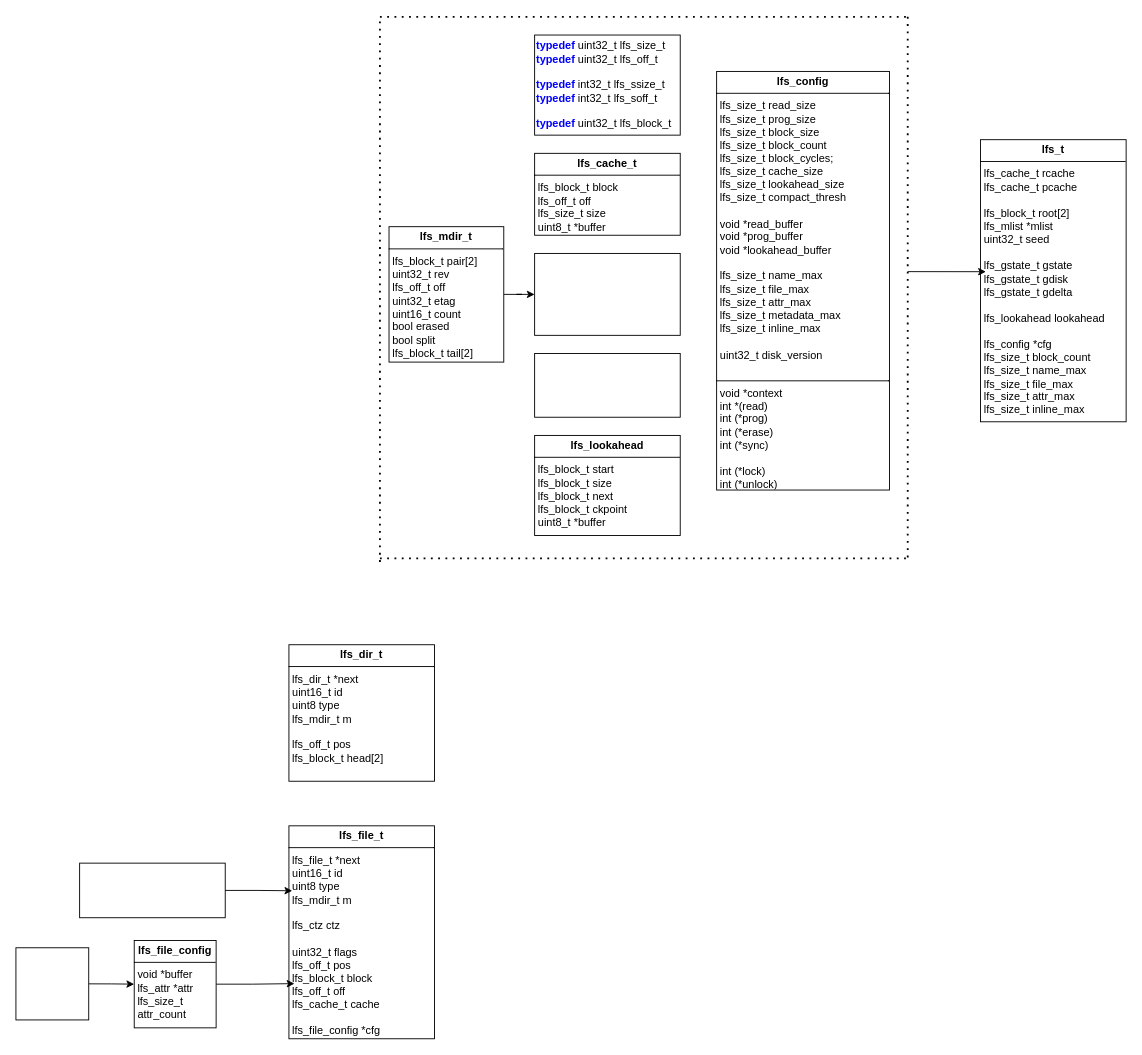
The diagram is 1142 pixels wide and 1055 high, and some of its shapes have lost their labels. The centre of each missing label's shape, as x and y in pixels:
"lfs_attr uint8_t type void *buffer lfs_size_t size" belongs at point (52, 983).
"lfs_ctz lfs_block_t head lfs_size_t size" belongs at point (152, 890).
"lfs_gstate_t uint32_t tag lfs_block_t pair[2]" belongs at point (607, 385).
"lfs_mlist lfs_mlist *next uint16_t id uint8_t type lfs_mdir_t m" belongs at point (607, 294).
